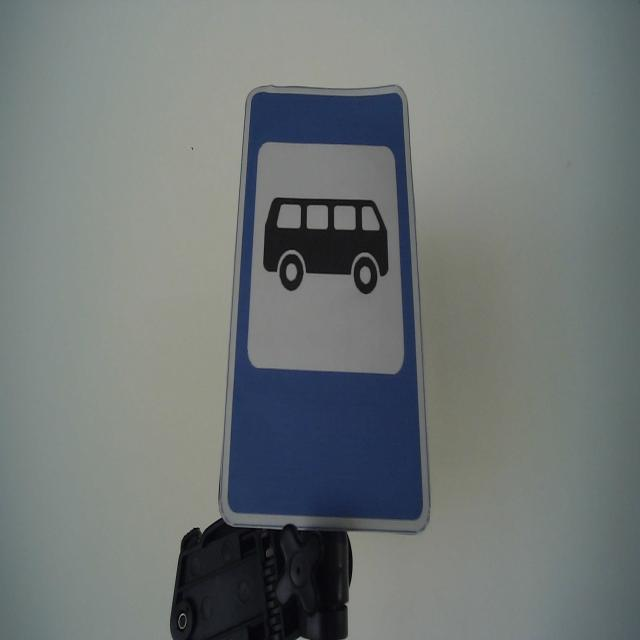bus_stop: (216, 80, 434, 540)
